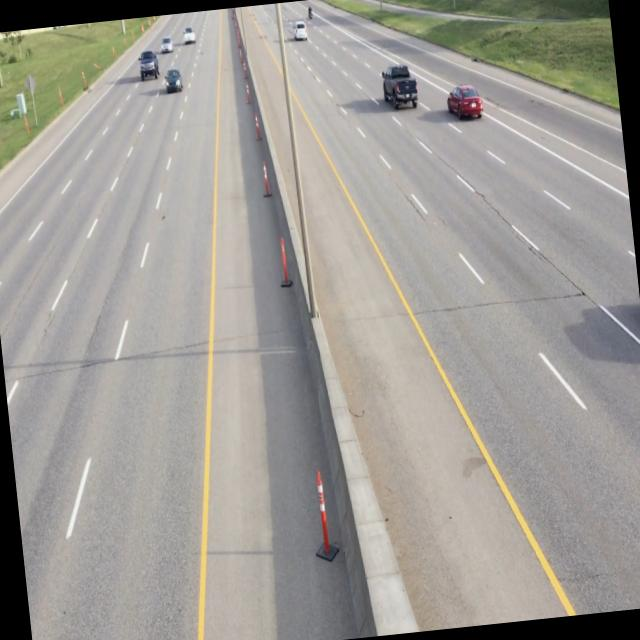Vehicle: (381, 58, 422, 116), (445, 75, 485, 125), (136, 48, 162, 84), (162, 64, 185, 98), (291, 18, 309, 42)
